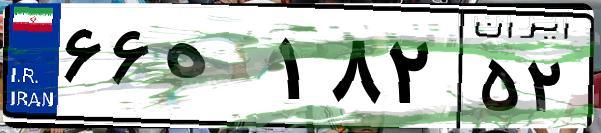1: (270, 28, 330, 110)
2: (385, 28, 445, 110), (525, 38, 570, 115)
5: (475, 38, 525, 113)
6: (57, 26, 110, 100), (110, 28, 158, 98)
8: (330, 28, 385, 110)
ه: (158, 20, 270, 120)
